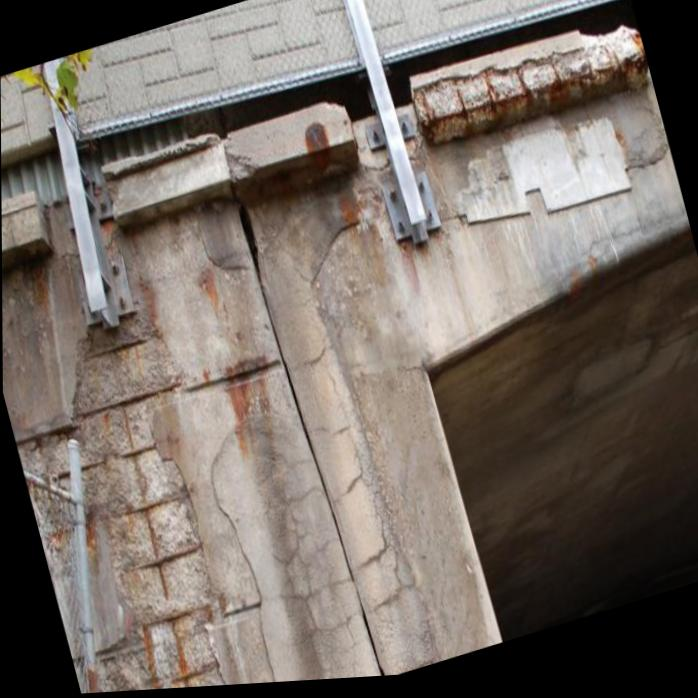damage: (15, 315, 223, 694), (411, 33, 648, 154)
